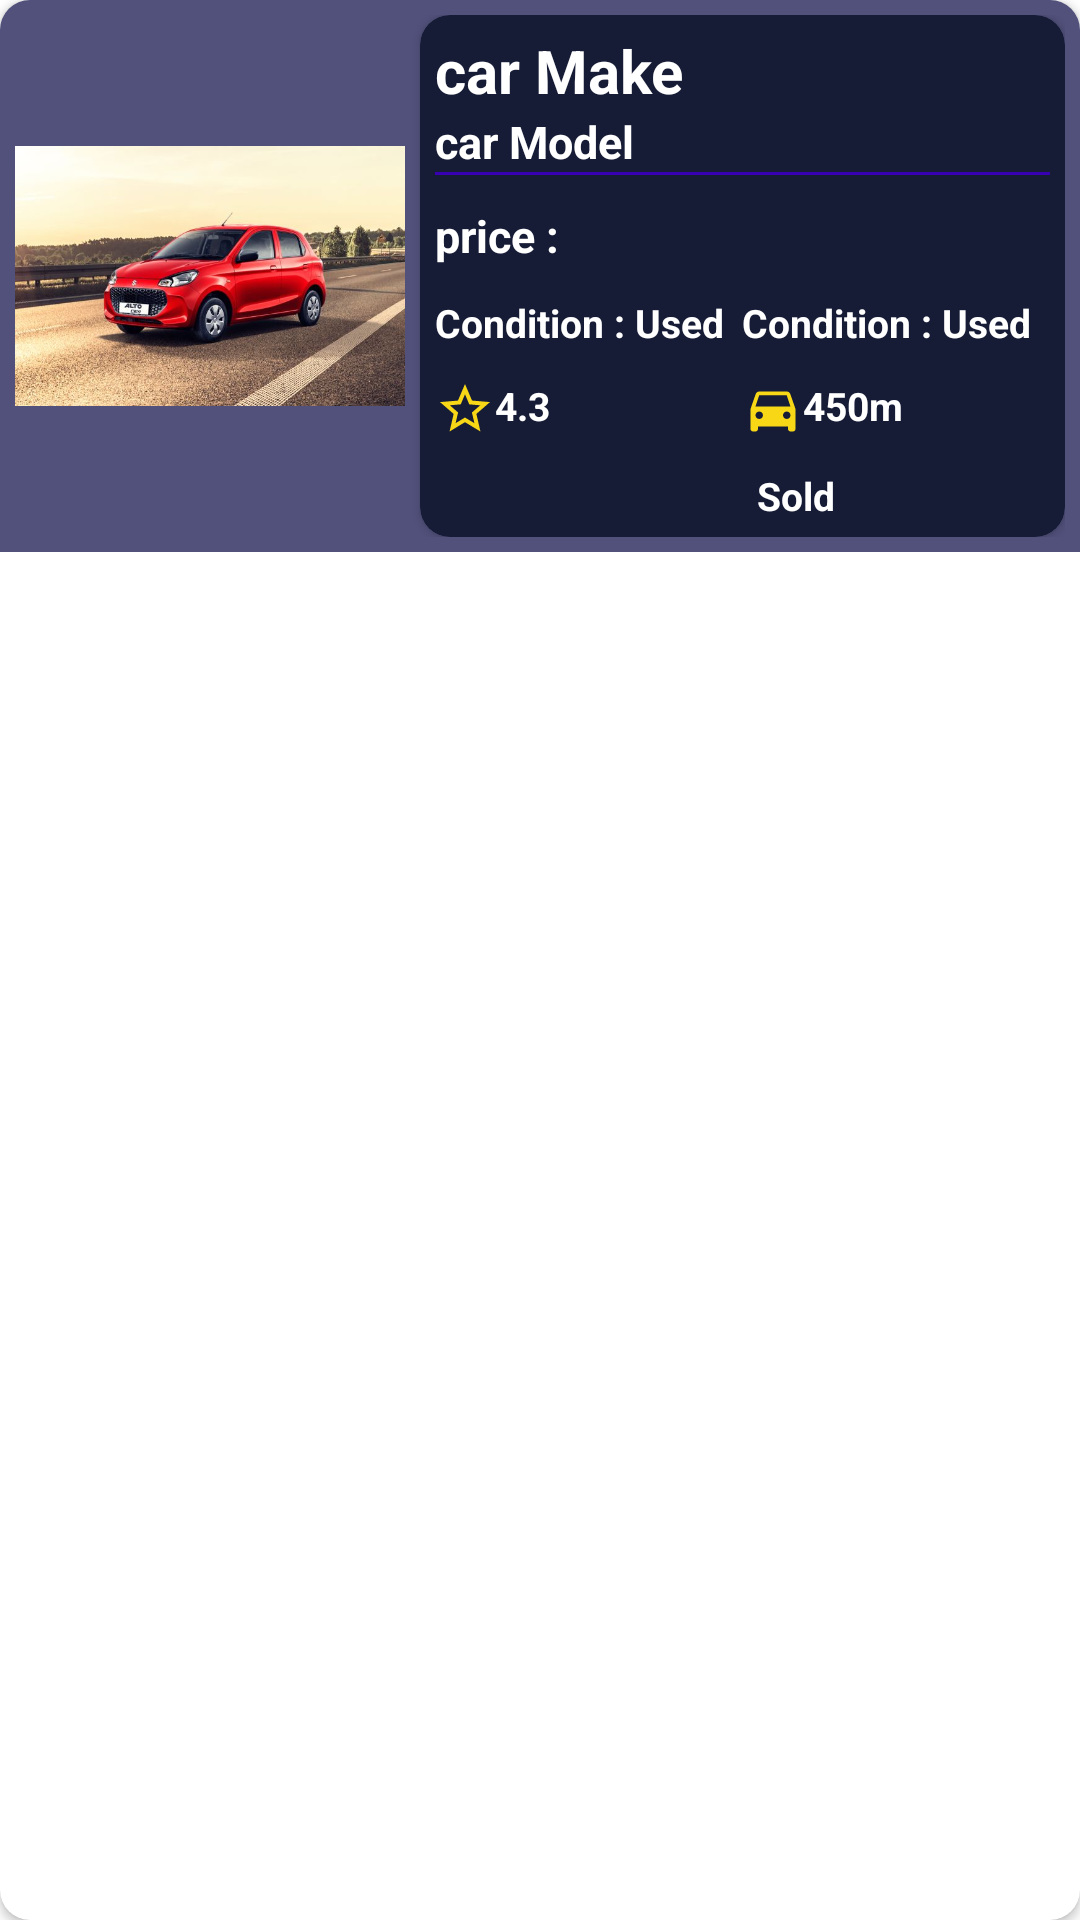

Icon bounding boxes for this 1080px×1920px phone screenshot, format (x1, y1, x2, y2):
car: (750, 391, 796, 432)
rating: (440, 384, 490, 432)
